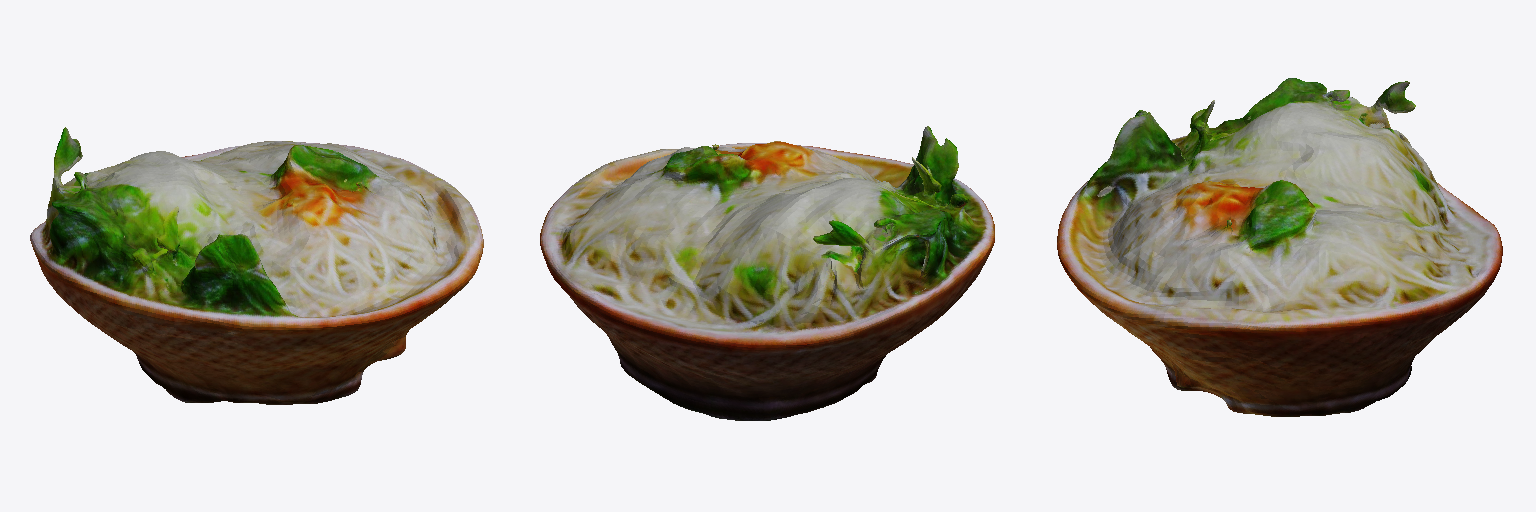
3 views of the same model, side by side, from view 1: azimuth 30°, elevation 25°; view 2: azimuth 150°, elevation 25°; view 3: azimuth 270°, elevation 25° (orthographic).
Visible parts, largest first — view 1: mesh; view 2: mesh; view 3: mesh.
Boxes of the visible parts, x1=… form: mesh: x1=30, y1=127, x2=483, y2=404; mesh: x1=540, y1=126, x2=994, y2=420; mesh: x1=1057, y1=78, x2=1502, y2=416.
Size of the model in its own units: 0.9984 by 0.5529 by 0.9905.
Materials: 1 (1 with a texture image).